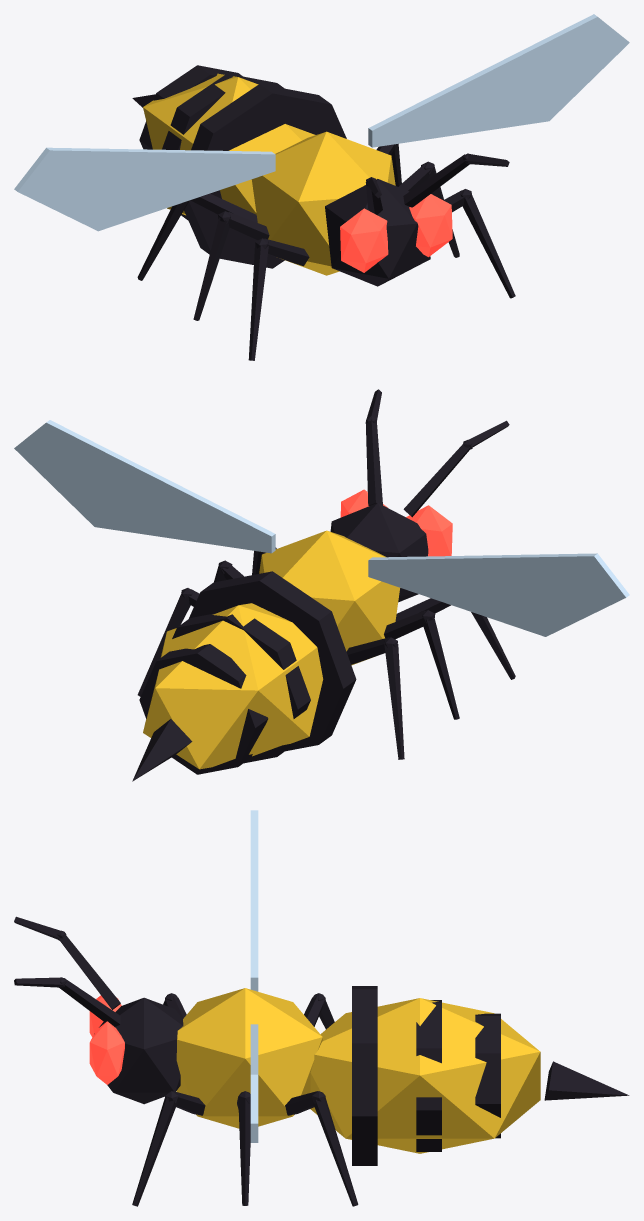
The model's file is Wasp.fbx.
3 views of the same model, one above another, from view 1: azimuth 30°, elevation 25°; view 2: azimuth 150°, elevation 25°; view 3: azimuth 270°, elevation 25° (orthographic).
Visible parts, largest first — view 1: Stripes, Body, WingR, WingL, LegsL, Eyes, LegsR, Antennae; view 2: Body, Stripes, WingR, WingL, LegsL, Antennae, Eyes, LegsR; view 3: Body, Stripes, LegsR, Antennae, Eyes, WingL, WingR, LegsL.
Part boxes in pixels (x1,y1,x2,y2): Stripes: (132, 65, 430, 286); Body: (143, 73, 395, 275); WingR: (368, 14, 629, 147); WingL: (14, 147, 275, 231); LegsL: (137, 193, 309, 360); Eyes: (340, 194, 452, 272); LegsR: (376, 143, 515, 298); Antennae: (365, 153, 509, 214); Body: (143, 530, 399, 769); Stripes: (132, 503, 428, 781); WingR: (14, 420, 275, 553); WingL: (368, 553, 629, 636); LegsL: (346, 598, 515, 759); Antennae: (365, 389, 509, 517); Eyes: (340, 489, 452, 556); LegsR: (137, 547, 276, 696); Body: (176, 988, 540, 1153); Stripes: (94, 986, 629, 1165); LegsR: (132, 1091, 358, 1206); Antennae: (14, 916, 120, 1026); Eyes: (89, 995, 124, 1084); WingL: (250, 810, 258, 991); WingR: (250, 1024, 258, 1142); LegsL: (163, 993, 334, 1029).
Size of the model in its own units: 3.8 by 1.32 by 3.35.
